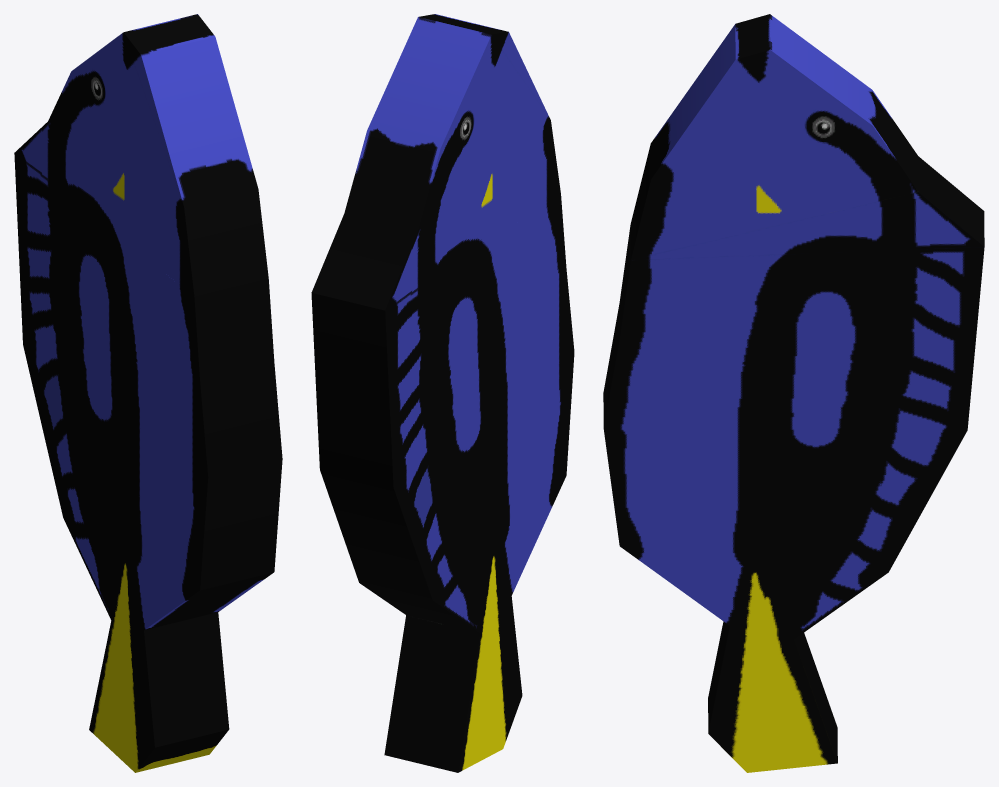
The model's file is dory.fbx.
3 views of the same model, side by side, from view 1: azimuth 30°, elevation 25°; view 2: azimuth 150°, elevation 25°; view 3: azimuth 270°, elevation 25° (orthographic).
Visible parts, largest first — view 1: node_id80; view 2: node_id80; view 3: node_id80.
Part boxes in pixels (x1,y1,x2,y2): node_id80: [14, 14, 282, 772]; node_id80: [311, 14, 574, 772]; node_id80: [603, 14, 984, 772].
Size of the model in its own units: 0.0552 by 0.512 by 0.2446.
1 material, 1 textured.
